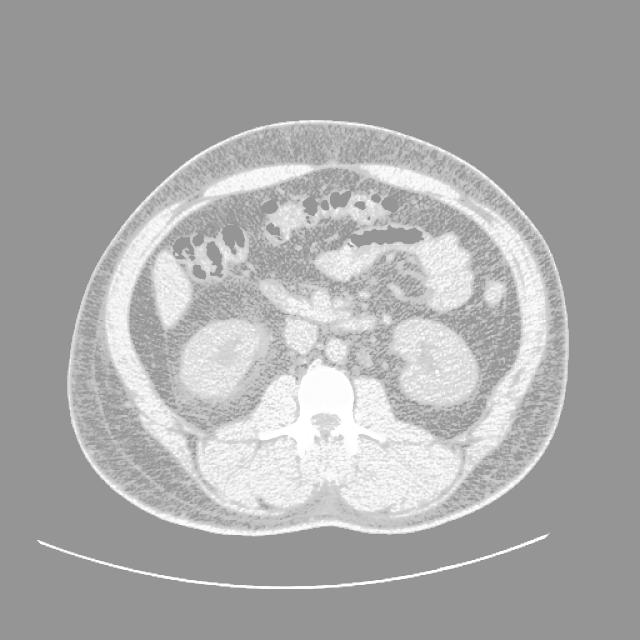STONE: (109, 159, 504, 335)
